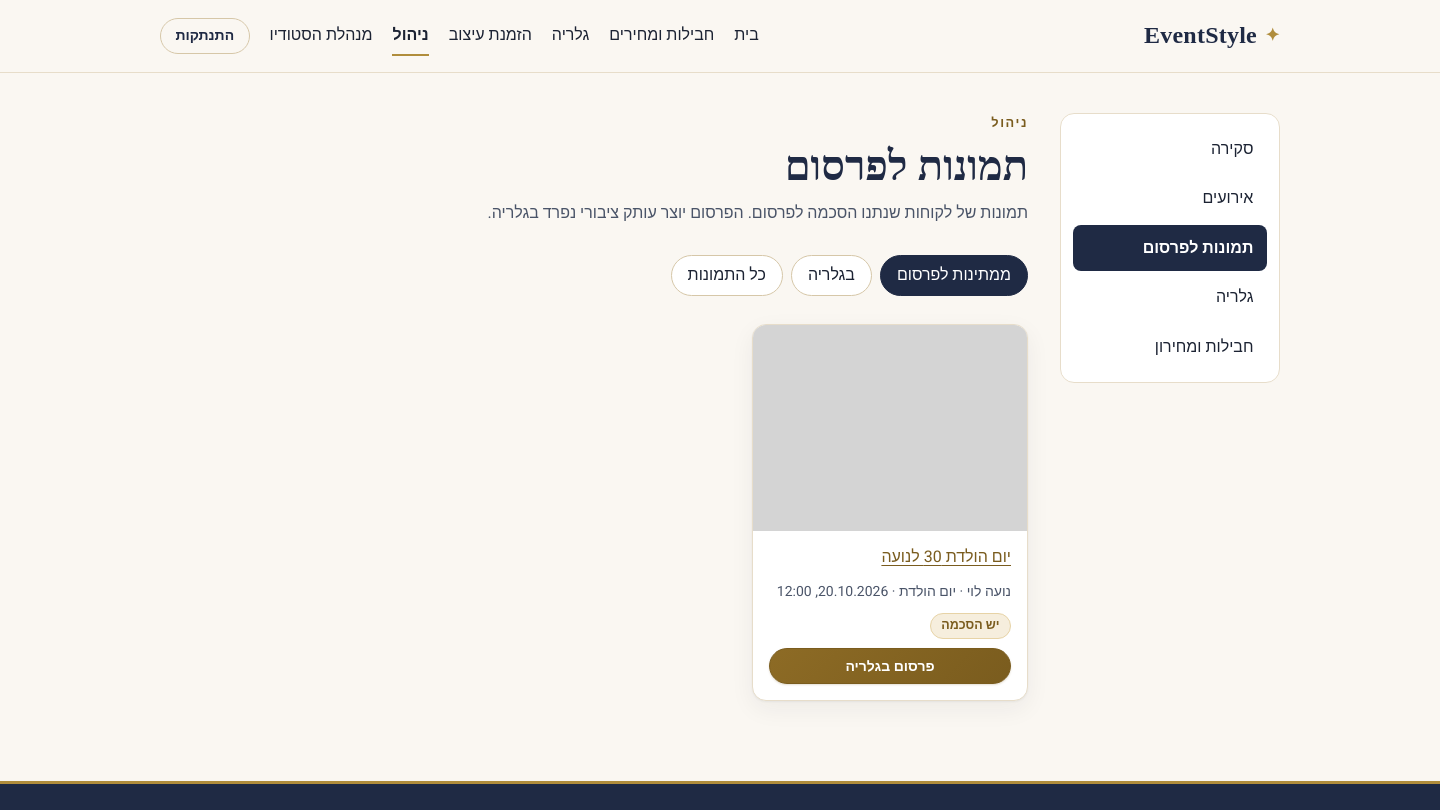
Test case: Admin: photos waiting for publication › publish dialog validates the title
The image size is (1440, 810).
Click the button "פרסום בגלריה".
click(890, 666)  # box 769,648 -> 1011,684
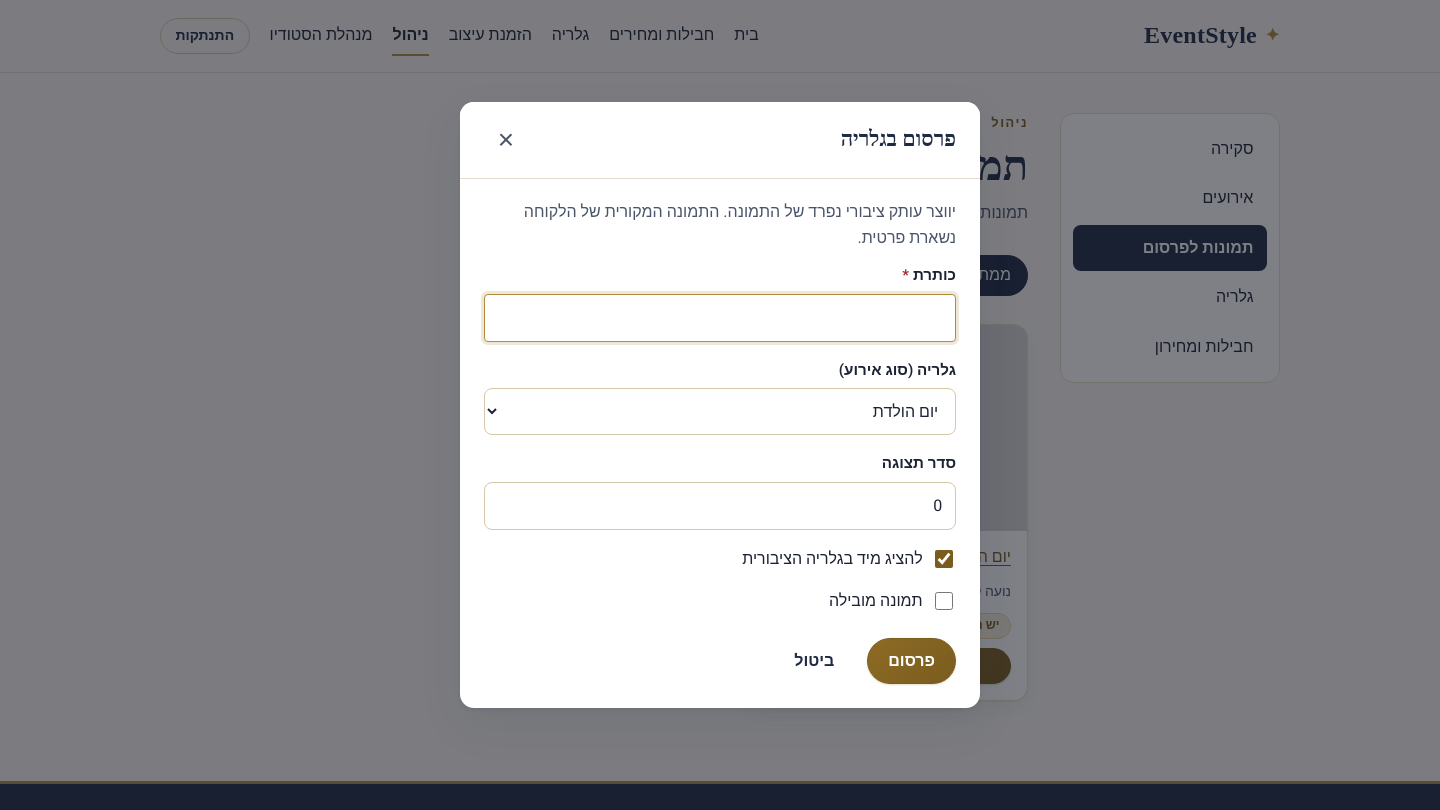
Click the button "פרסום".
click(912, 662)  # box 867,638 -> 956,684
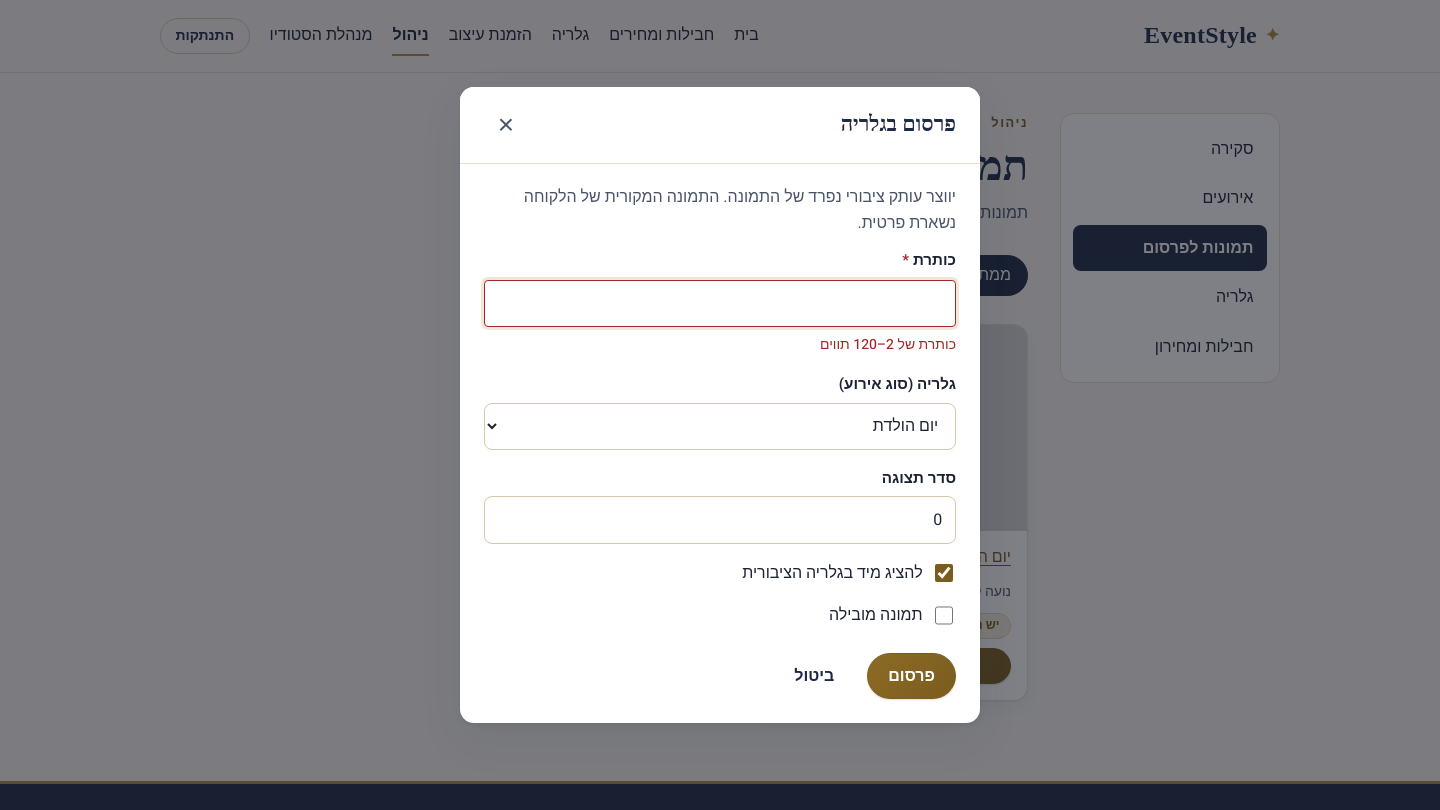
Expected: the text "כותרת של 2–120 תווים" is shown, 820,334 -> 956,355
